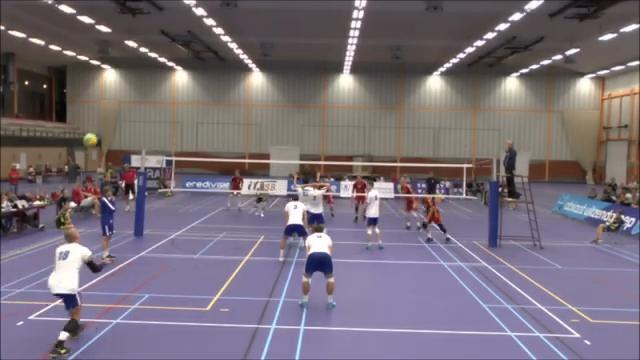Player: (48, 229, 109, 358), (299, 225, 335, 307), (293, 174, 329, 226), (279, 196, 307, 260), (422, 197, 450, 242), (302, 183, 329, 226), (366, 186, 383, 249), (400, 177, 419, 230), (352, 176, 367, 222), (227, 170, 243, 210), (251, 183, 268, 216), (323, 187, 334, 216)
ball: (83, 132, 97, 147)
